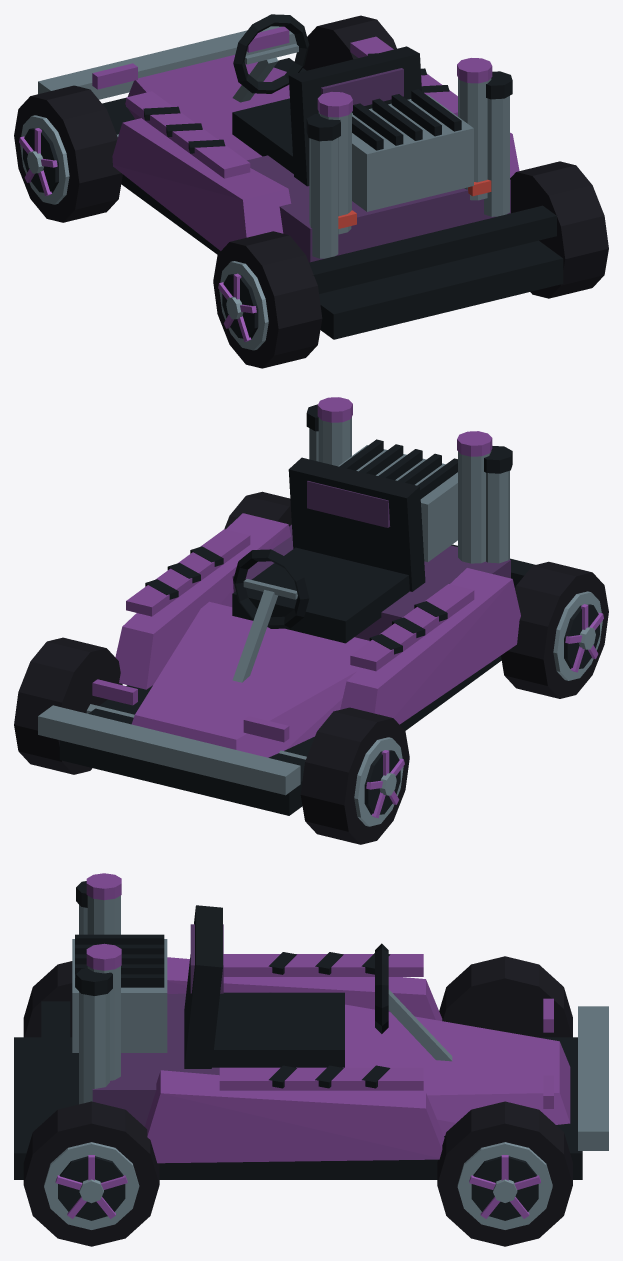
Rendered from kart.glb.
3 views of the same model, one above another, from view 1: azimuth 30°, elevation 25°; view 2: azimuth 150°, elevation 25°; view 3: azimuth 270°, elevation 25° (orthographic). The views are drawn at different scales.
Visible parts, largest first — view 1: chassis, wheel-rear-left, wheel-front-left, wheel-rear-right, wheel-front-right; view 2: chassis, wheel-front-left, wheel-rear-left, wheel-front-right, wheel-rear-right; view 3: chassis, wheel-front-right, wheel-rear-right, wheel-front-left, wheel-rear-left.
Part boxes in pixels (x1,y1,x2,y2): chassis: (38,14,563,339); wheel-rear-left: (213,231,322,368); wheel-front-left: (14,85,122,222); wheel-rear-right: (510,161,608,298); wheel-front-right: (303,15,396,70); chassis: (38,397,535,815); wheel-front-left: (300,707,409,844); wheel-rear-left: (501,561,608,698); wheel-front-right: (14,637,122,774); wheel-rear-right: (224,491,291,529); chassis: (14,873,608,1179); wheel-front-right: (437,1101,572,1246); wheel-rear-right: (23,1101,159,1246); wheel-front-left: (439,956,572,1037); wheel-rear-left: (23,961,72,1037).
Size of the model in its own units: 2.21 by 1.4 by 3.07.
